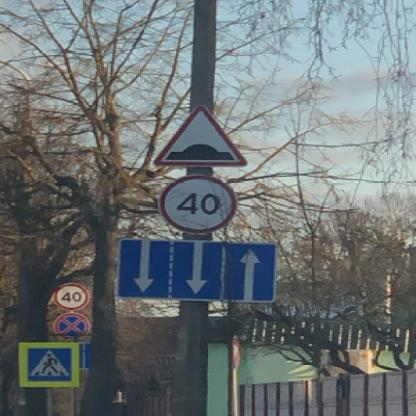Speed Limit 40: (164, 175, 236, 232), (54, 284, 88, 310)
